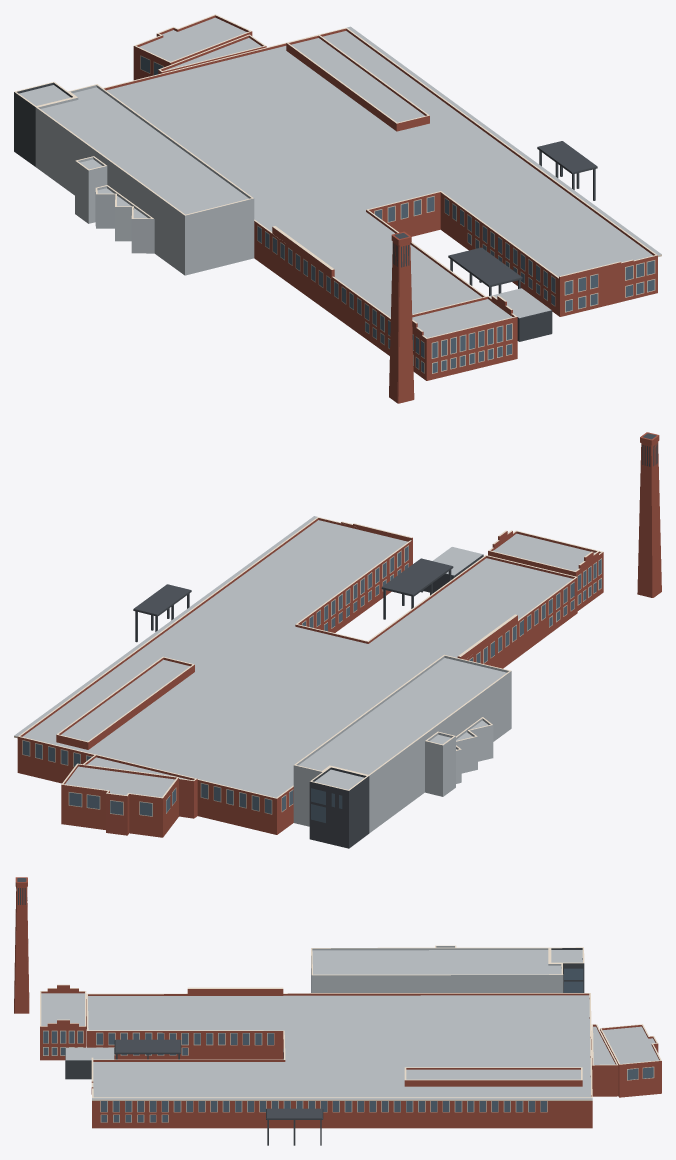
File: clt-optimist-hall.glb
3 renders of one model, top to bottom at view 1: azimuth 30°, elevation 25°; view 2: azimuth 150°, elevation 25°; view 3: azimuth 270°, elevation 25°, orthographic. The views are drawn at different scales.
Visible parts, largest first — view 1: Optimist Hall; view 2: Optimist Hall; view 3: Optimist Hall.
Boxes of the visible parts, box(x1,y1,x2,y2) form: Optimist Hall: box(14, 14, 661, 403); Optimist Hall: box(14, 432, 661, 848); Optimist Hall: box(14, 877, 661, 1145).
Bounding box in the file's own units: 104 × 40.1 × 180.
